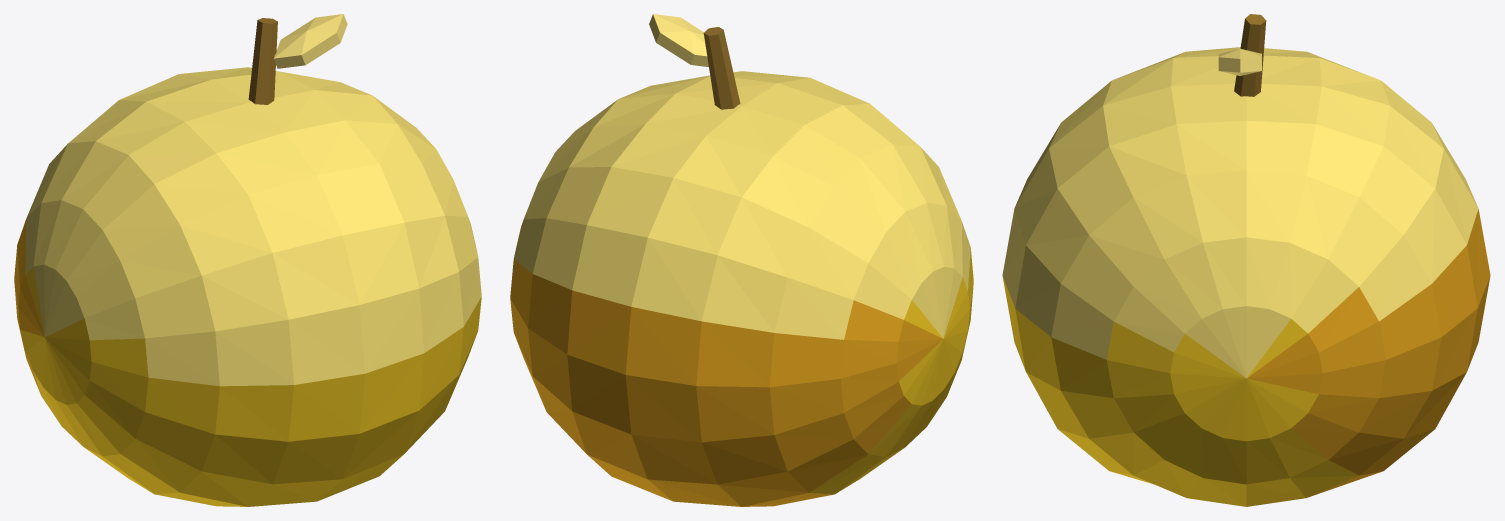
Rendered from zlate.glb.
3 views of the same model, side by side, from view 1: azimuth 30°, elevation 25°; view 2: azimuth 150°, elevation 25°; view 3: azimuth 270°, elevation 25° (orthographic). The views are drawn at different scales.
Visible parts, largest first — view 1: half_b_apple_highlight, half_b_apple_skin, half_a_apple_highlight, half_a_apple_skin, half_a_leaf, half_a_stem, half_b_apple_shadow; view 2: half_b_apple_highlight, half_b_apple_shadow, half_a_apple_highlight, half_a_apple_shadow, half_b_apple_skin, half_a_leaf, half_a_stem; view 3: half_a_apple_highlight, half_a_apple_skin, half_a_apple_shadow, half_b_apple_highlight, half_a_stem, half_a_leaf.
Part boxes in pixels (left/top/right/bottom): half_b_apple_highlight: left=25, top=74, right=365, bottom=386; half_b_apple_skin: left=20, top=267, right=365, bottom=506; half_a_apple_highlight: left=180, top=67, right=481, bottom=373; half_a_apple_skin: left=317, top=297, right=481, bottom=501; half_a_leaf: left=273, top=14, right=347, bottom=68; half_a_stem: left=248, top=18, right=277, bottom=104; half_b_apple_shadow: left=14, top=219, right=44, bottom=393; half_b_apple_highlight: left=631, top=77, right=970, bottom=339; half_b_apple_shadow: left=625, top=300, right=942, bottom=506; half_a_apple_highlight: left=514, top=71, right=809, bottom=306; half_a_apple_shadow: left=510, top=222, right=672, bottom=501; half_b_apple_skin: left=809, top=248, right=973, bottom=494; half_a_leaf: left=649, top=14, right=708, bottom=66; half_a_stem: left=703, top=27, right=740, bottom=109; half_a_apple_highlight: left=1002, top=83, right=1478, bottom=378; half_a_apple_skin: left=1002, top=276, right=1359, bottom=506; half_a_apple_shadow: left=1247, top=209, right=1490, bottom=497; half_b_apple_highlight: left=1015, top=47, right=1477, bottom=206; half_a_stem: left=1234, top=14, right=1266, bottom=96; half_a_leaf: left=1218, top=48, right=1261, bottom=75.
Bounding box in the file's own units: 0.32 × 0.3344 × 0.32.
